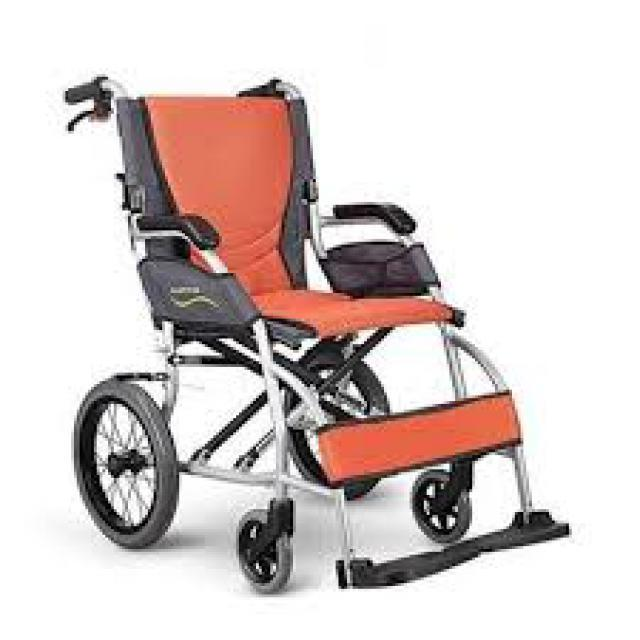wheelchair: (37, 54, 580, 603)
